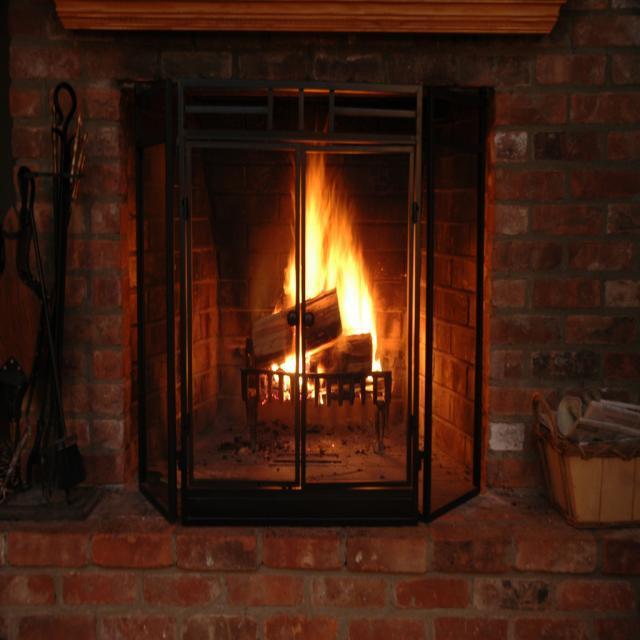Fire: (340, 270, 380, 330), (307, 208, 325, 296)
